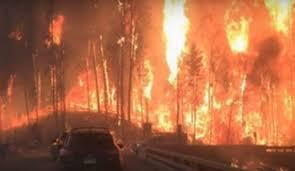fire: (161, 1, 189, 87)
